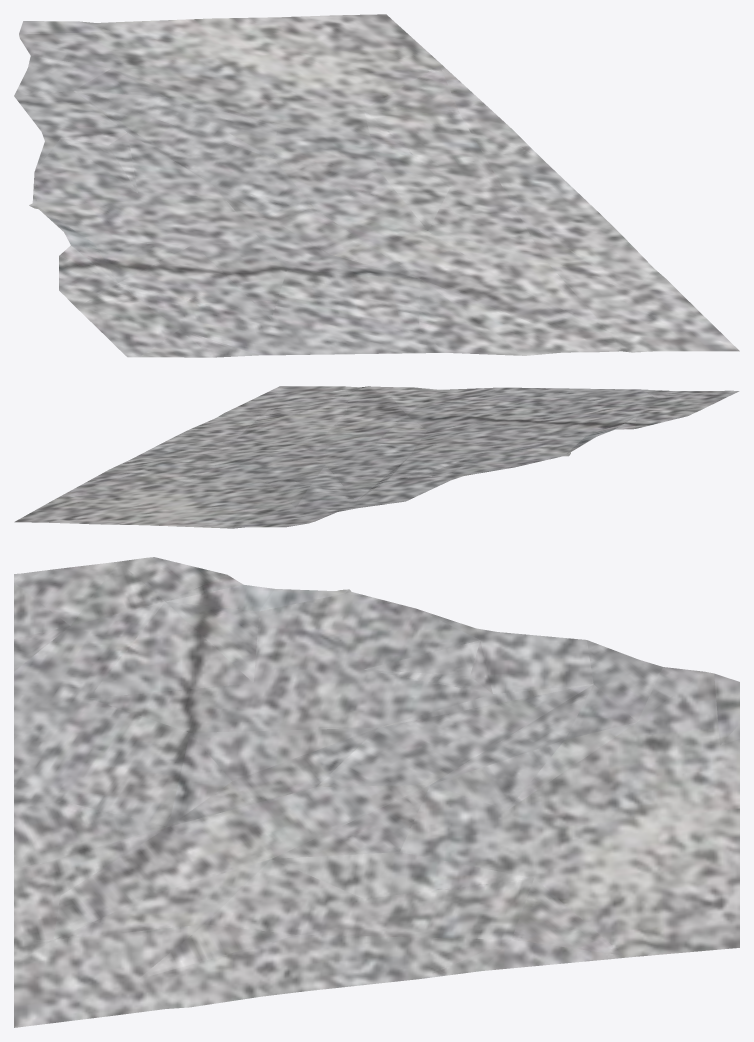
The picture shows the model from 3 angles, top to bottom: view 1: azimuth 30°, elevation 25°; view 2: azimuth 150°, elevation 25°; view 3: azimuth 270°, elevation 25°; orthographic projection. The views are drawn at different scales.
Bounding box in the file's own units: 0.8373 × 0.2089 × 0.8374.
Materials: 2 (2 with a texture image).
